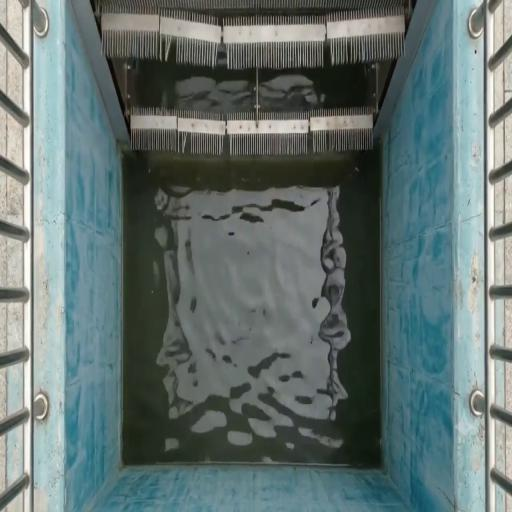rake_broken: (315, 22, 385, 68), (206, 24, 250, 78), (152, 27, 198, 70), (302, 124, 364, 155), (171, 130, 208, 164), (214, 128, 249, 156)
